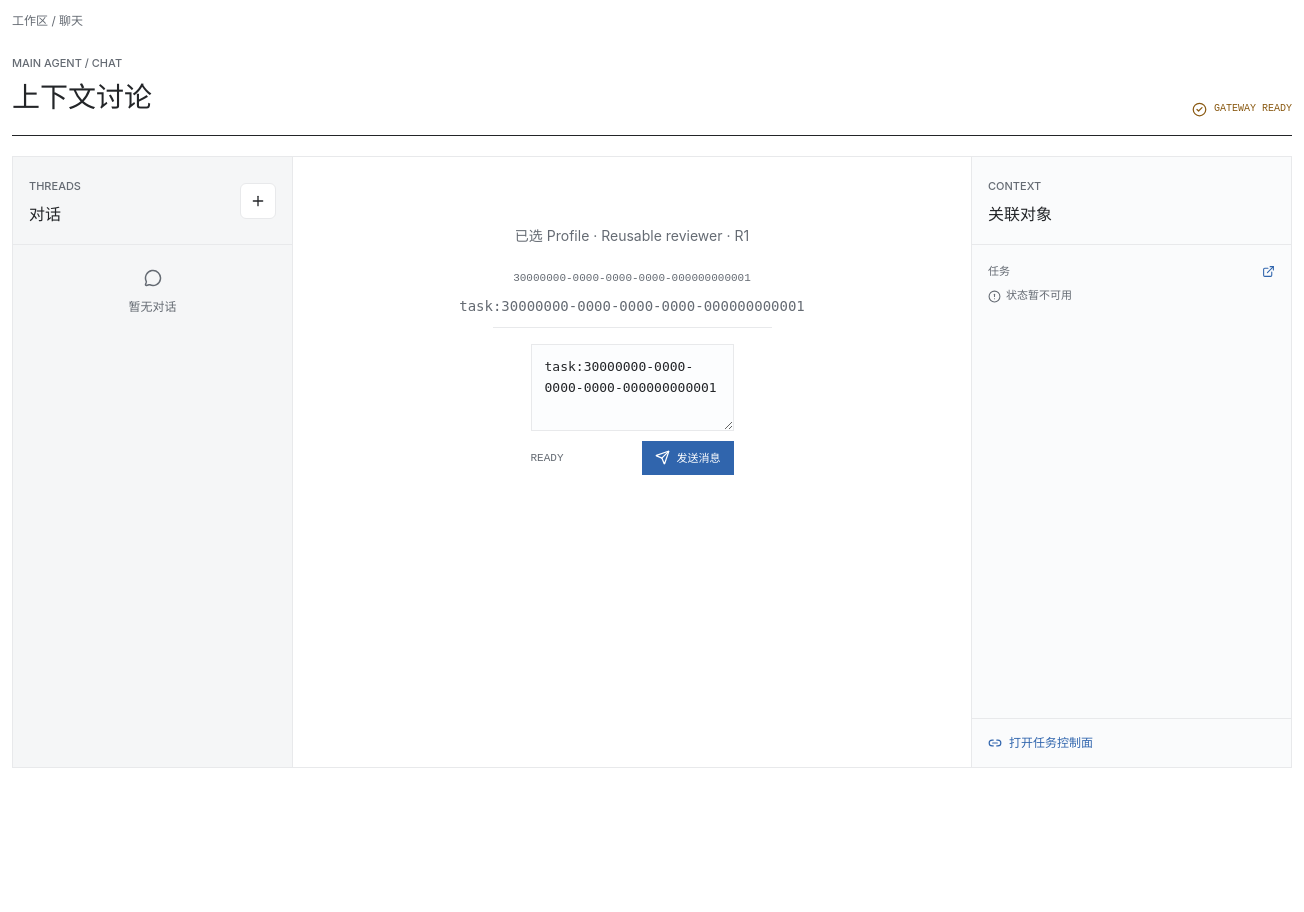
it: native chat uses reviewed Profile pins and explicit local session entry › checks the mismatched native context empty thread before its first prompt
Expected: the text "已选 Profile · Reusable reviewer · R1" is shown, [515,224,749,247]
Replace the text in the text box named "给 Main Agent 的消息" with "Discuss the original controlled task" at (632, 388), box [530,344,734,431]
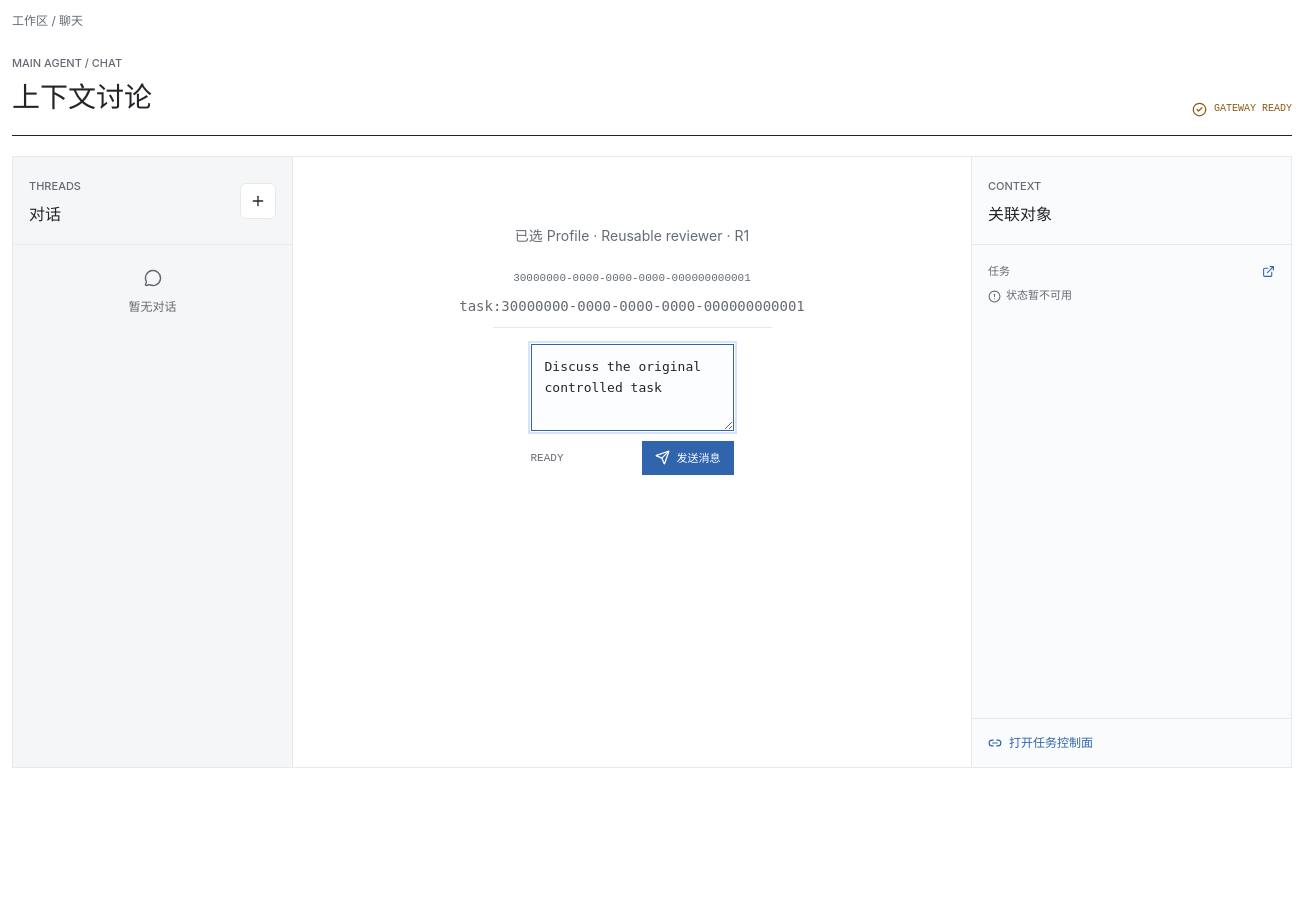
Click the button "发送消息" at (688, 458), box [642,441,734,475]
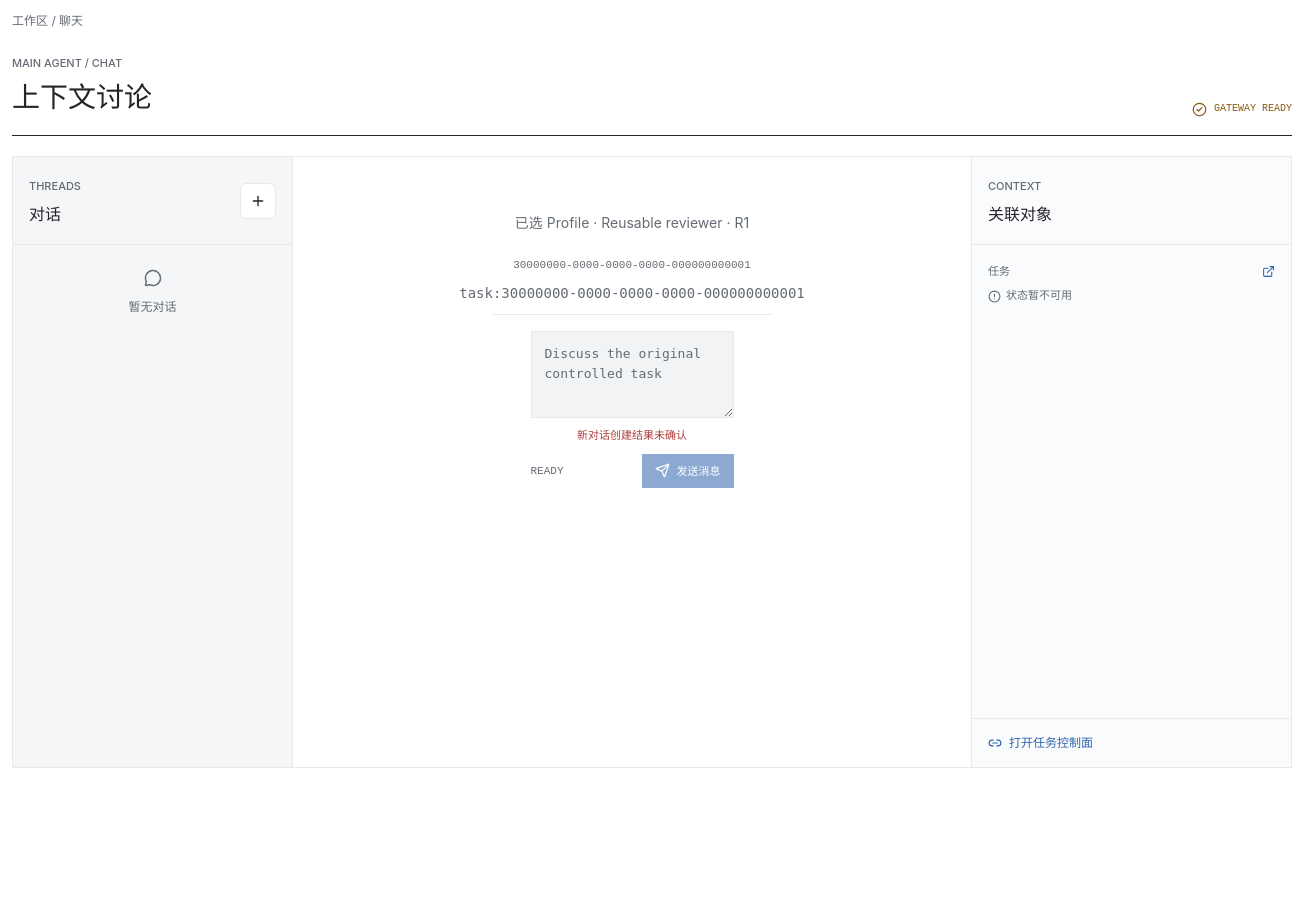
Expected: the text "新对话创建结果未确认" is shown, [577,428,687,442]
